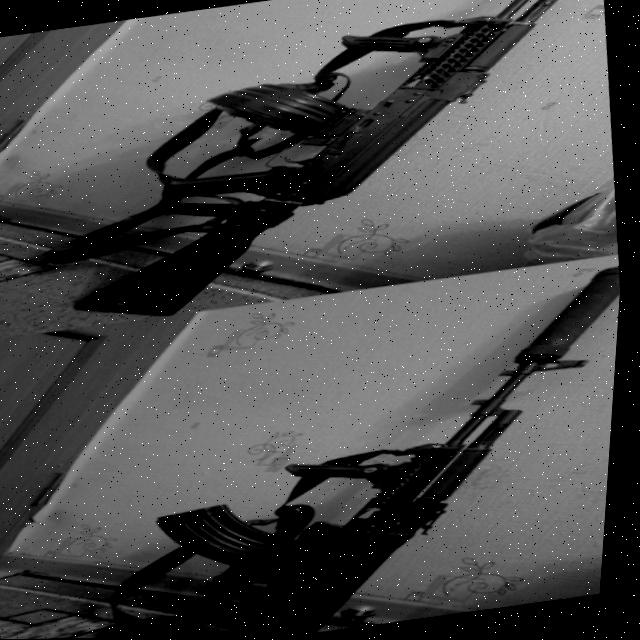firearm: (9, 0, 635, 334), (72, 267, 626, 639)
